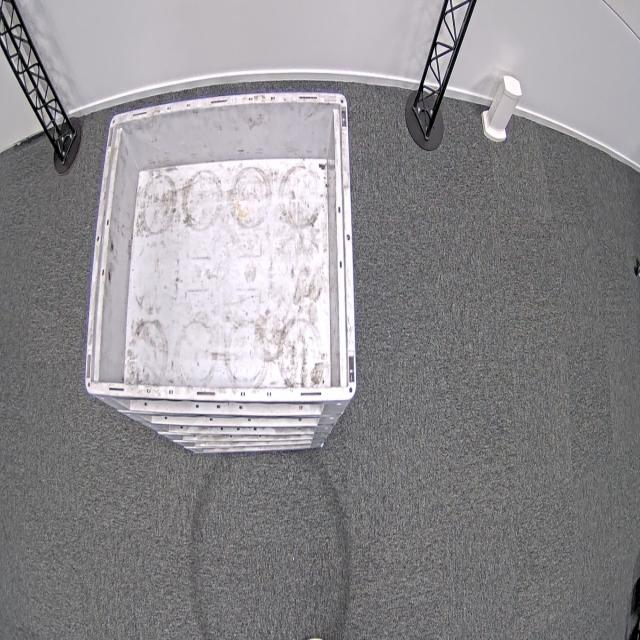Roll3G: (83, 87, 360, 405)
